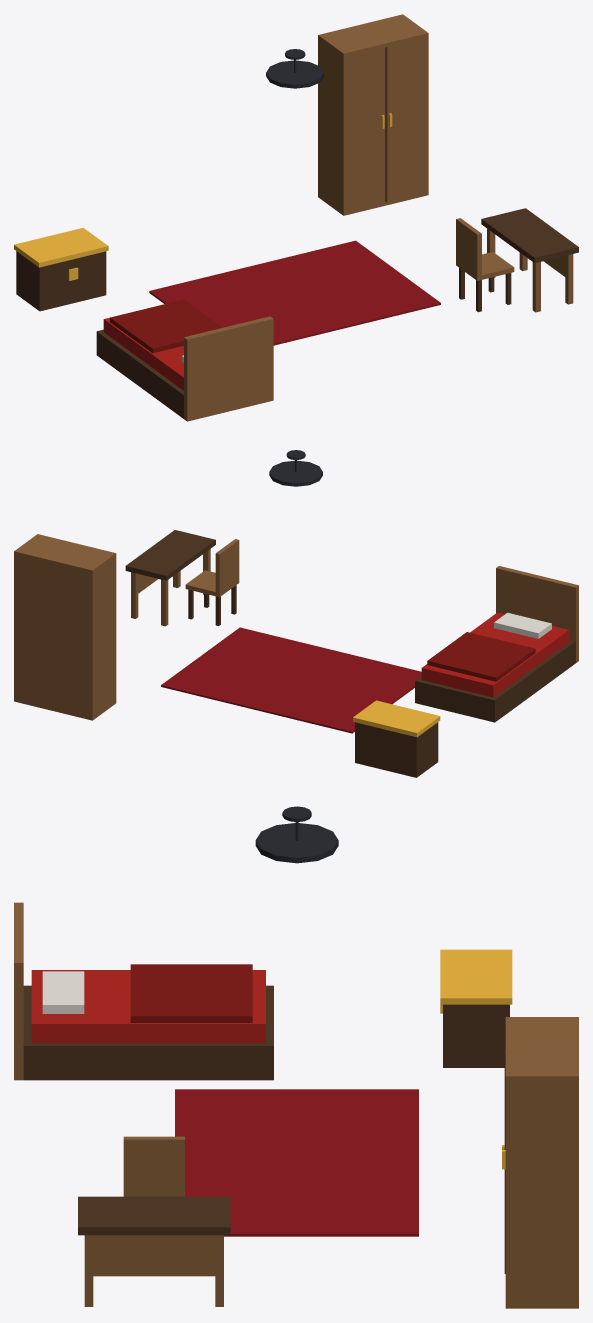
Rendered from SM_Interior_slifer_player_room_Props.fbx.
3 views of the same model, one above another, from view 1: azimuth 30°, elevation 25°; view 2: azimuth 150°, elevation 25°; view 3: azimuth 270°, elevation 25° (orthographic). The views are drawn at different scales.
Parts seen in each view (by area): view 1: SM_Interior_slifer_player_room_Props; view 2: SM_Interior_slifer_player_room_Props; view 3: SM_Interior_slifer_player_room_Props.
Boxes of the visible parts, x1=… form: SM_Interior_slifer_player_room_Props: x1=14, y1=14, x2=578, y2=421; SM_Interior_slifer_player_room_Props: x1=14, y1=450, x2=578, y2=777; SM_Interior_slifer_player_room_Props: x1=14, y1=806, x2=578, y2=1308.
Size of the model in its own units: 5.61 by 3.18 by 4.63.
